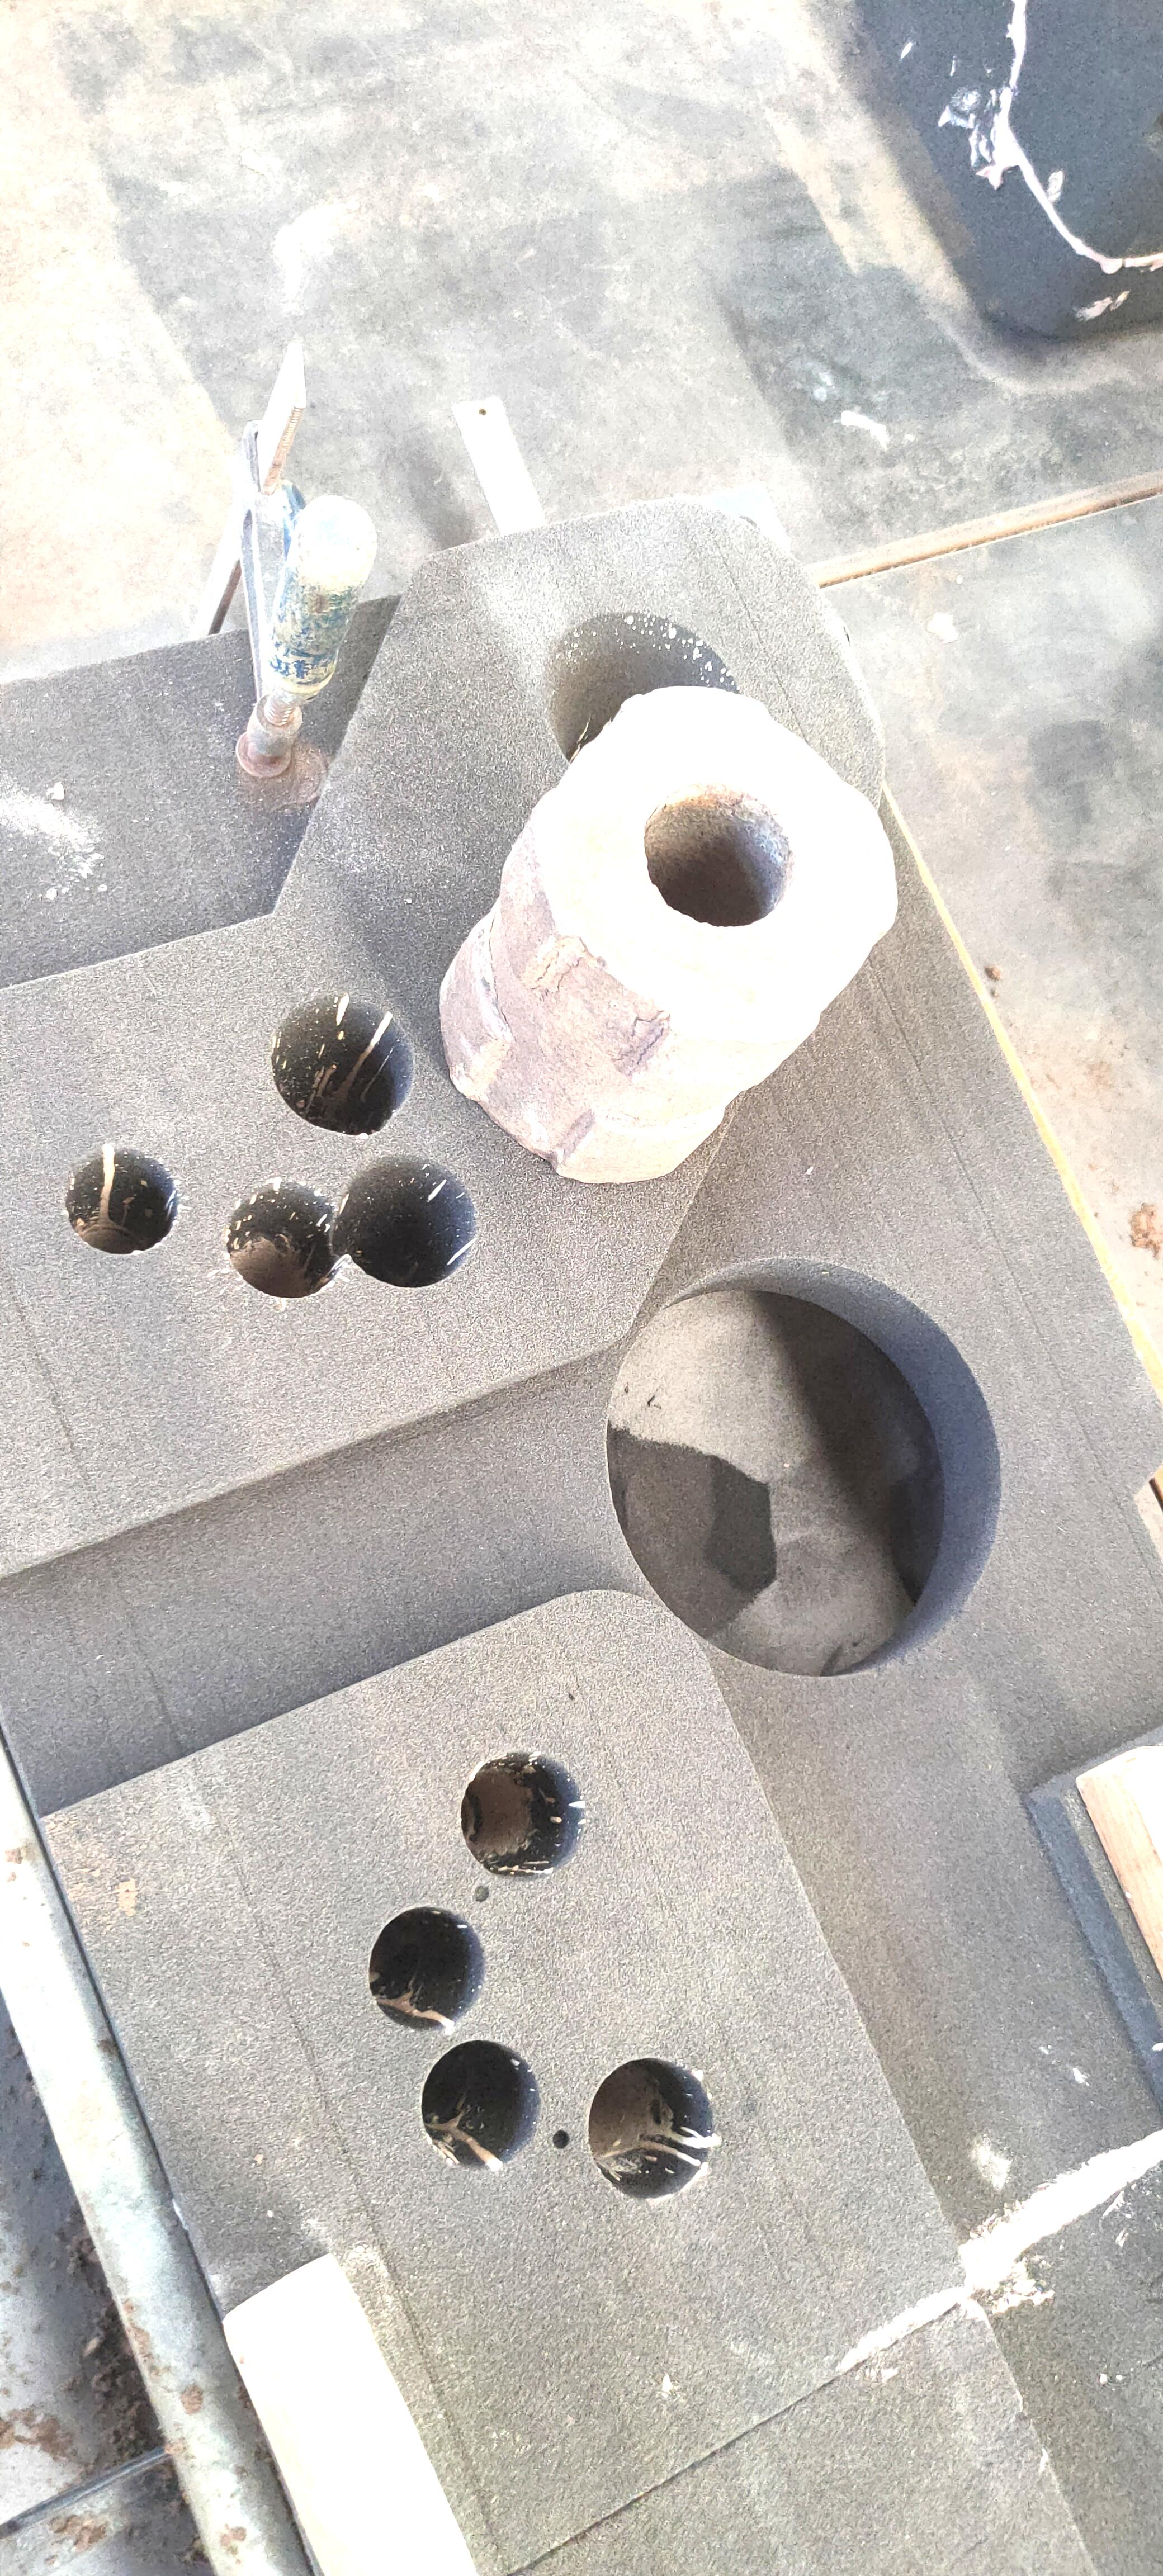pouring hole: (539, 611, 744, 780)
